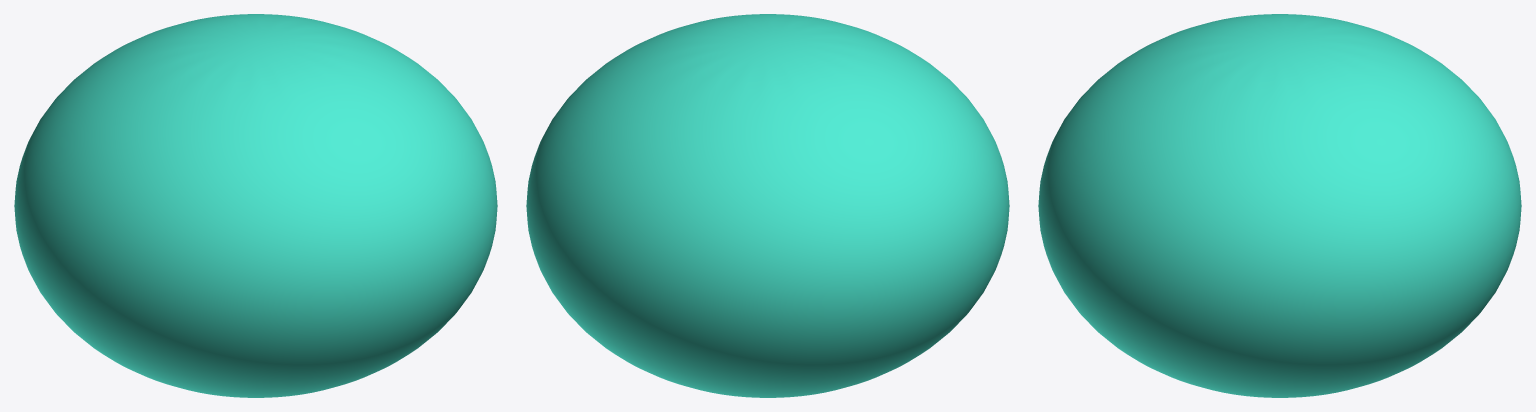
Rendered from sample.glb.
3 renders of one model, left to right at view 1: azimuth 30°, elevation 25°; view 2: azimuth 150°, elevation 25°; view 3: azimuth 270°, elevation 25°, orthographic.
Visible parts, largest first — view 1: Sphere; view 2: Sphere; view 3: Sphere.
Part boxes in pixels (left/top/right/bottom): Sphere: left=14, top=14, right=497, bottom=397; Sphere: left=526, top=14, right=1009, bottom=397; Sphere: left=1038, top=14, right=1521, bottom=397.
Bounding box in the file's own units: 2.1 × 1.58 × 2.1.
